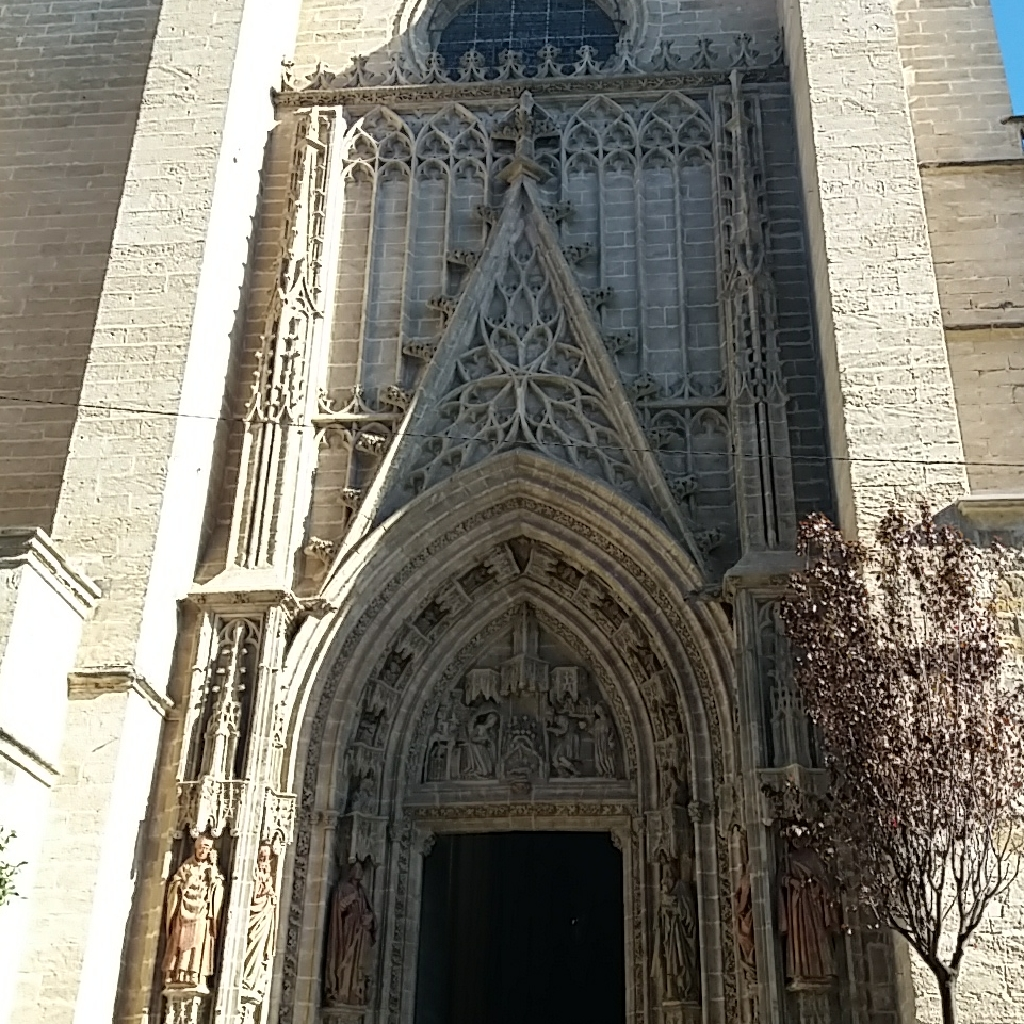arco-apuntado: (302, 446, 707, 794)
